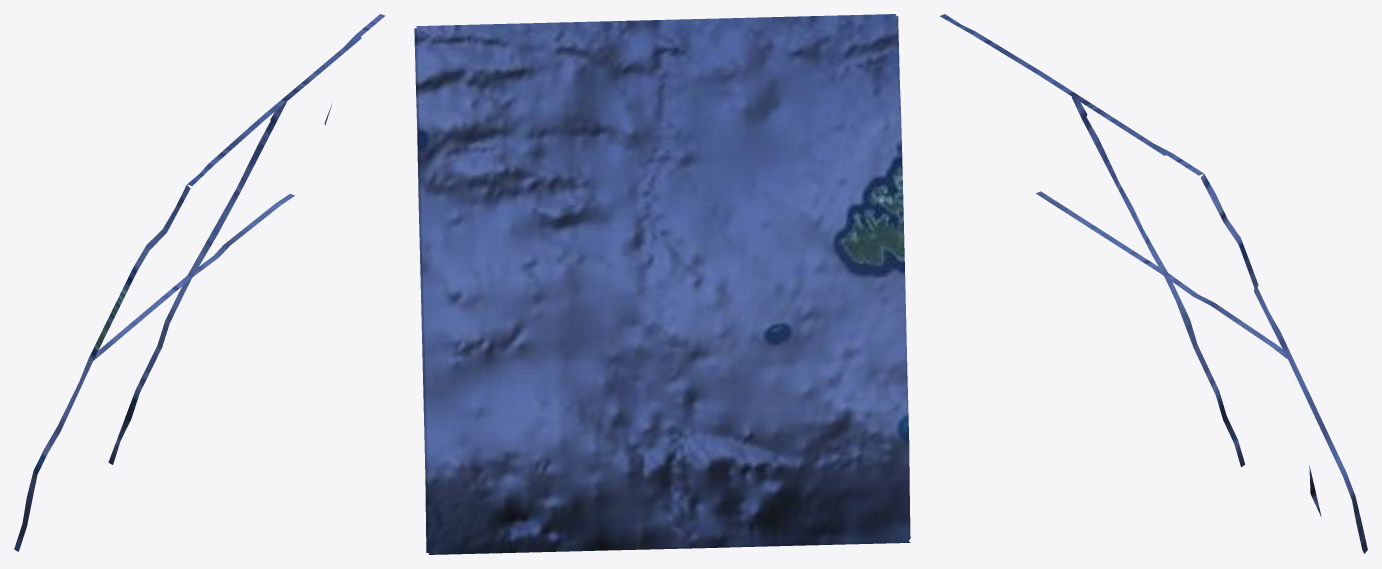
The picture shows the model from 3 angles, left to right: view 1: azimuth 30°, elevation 25°; view 2: azimuth 150°, elevation 25°; view 3: azimuth 270°, elevation 25°; orthographic projection. The views are drawn at different scales.
Size of the model in its own units: 77264 by 72910 by 66419.
1 material, 1 textured.
